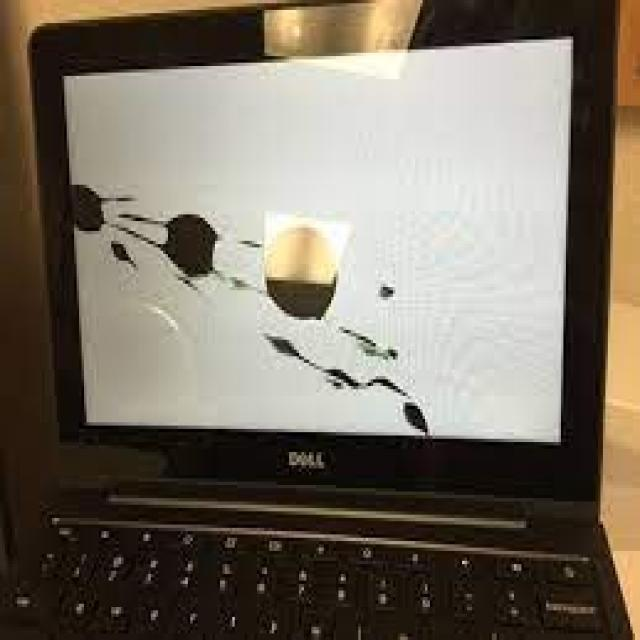Screen cracks: (70, 178, 442, 442)
